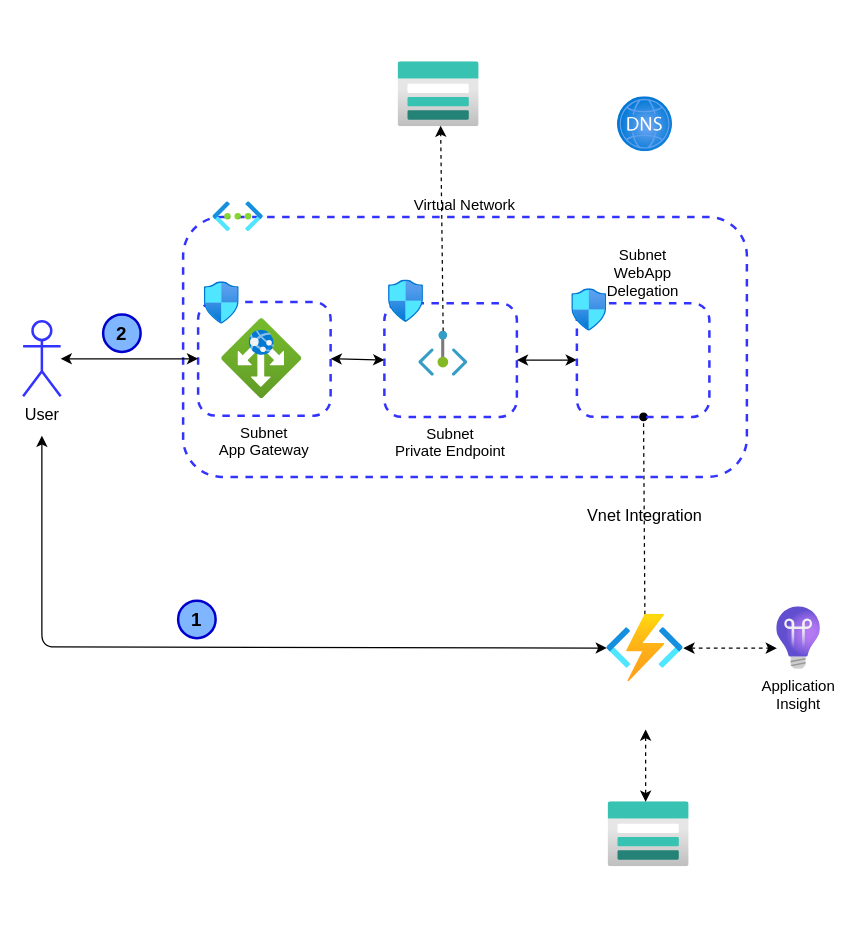
The diagram is 856 pixels wide and 933 high, and some of its shapes have lost their labels. The centre of each missing label's shape, as x and y in pixels:
"Function Storage" belongs at (x=648, y=833).
"Function Valet Key" belongs at (x=644, y=647).
"Pictures Storage" belongs at (x=438, y=93).
"Private DNS Zone for blob" belongs at (x=644, y=123).
